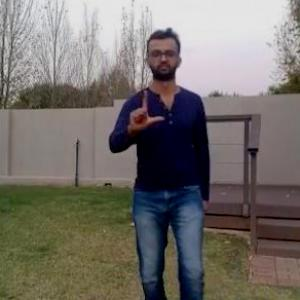land_hand: (125, 86, 164, 136)
